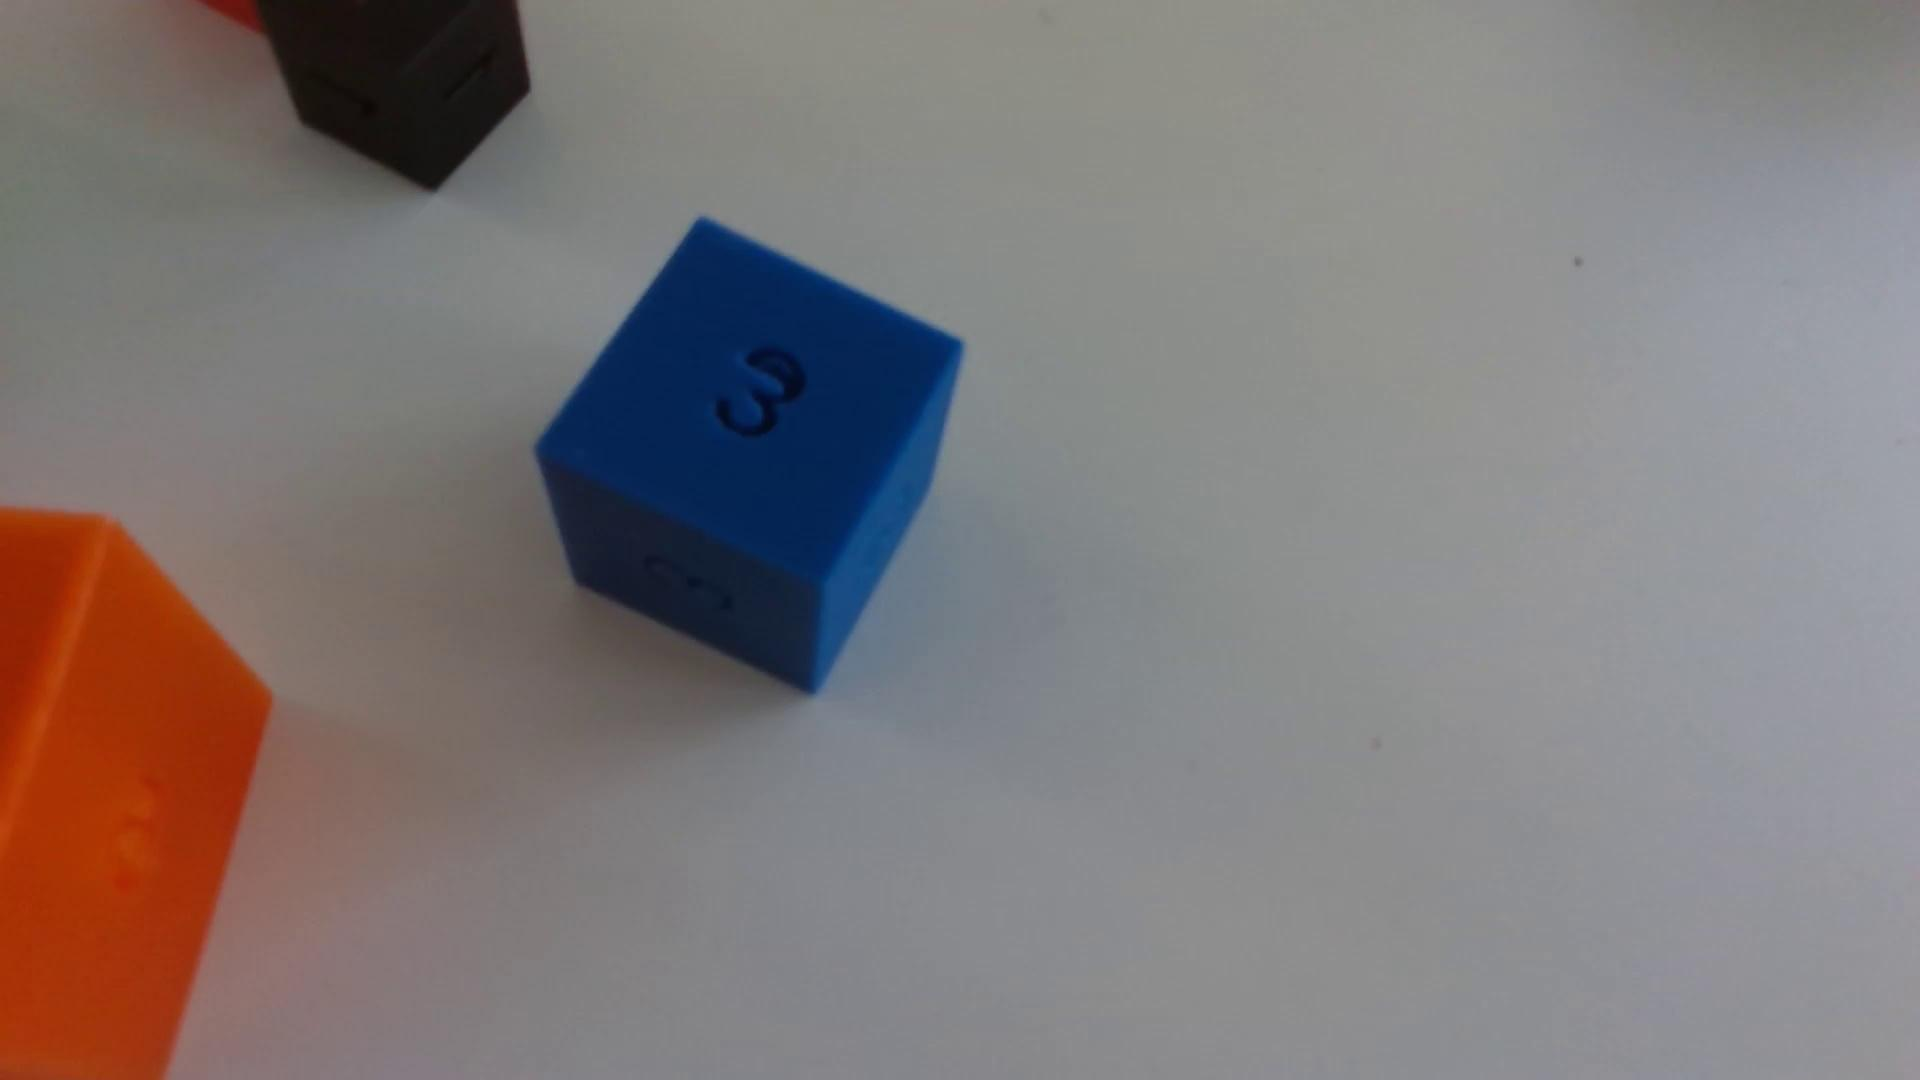black: (256, 0, 531, 191)
blue: (535, 220, 963, 694)
orange: (0, 509, 272, 1080)
red: (200, 0, 260, 33)
